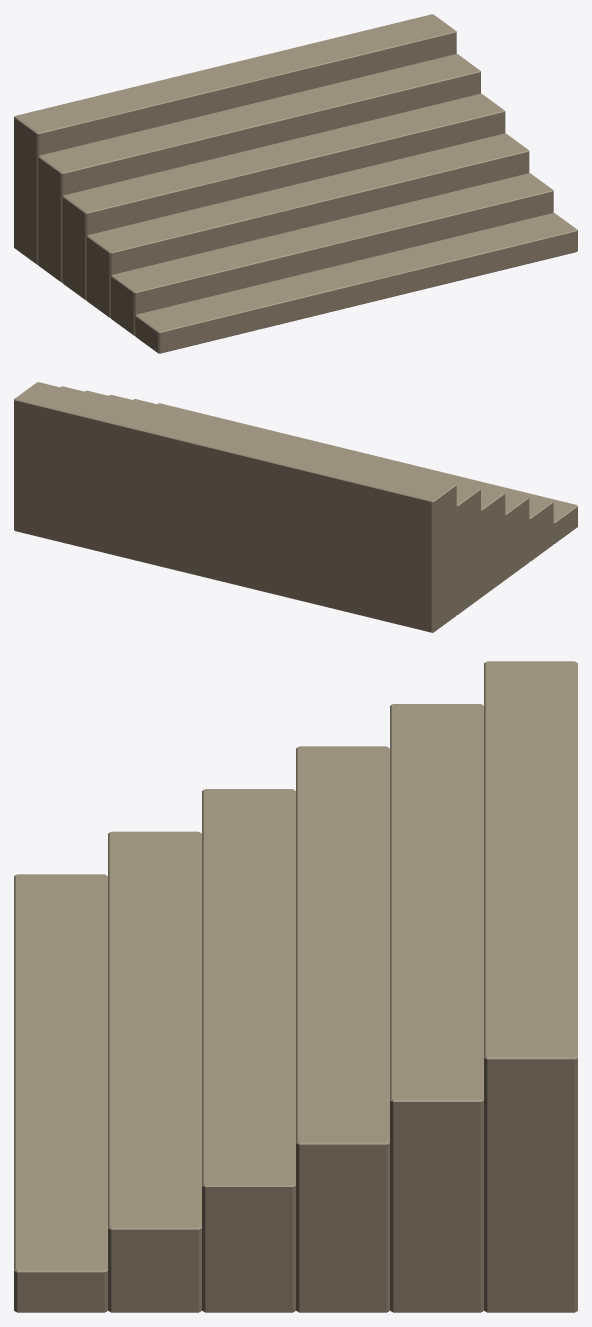
The model's file is stair-wide.glb.
The picture shows the model from 3 angles, top to bottom: view 1: azimuth 30°, elevation 25°; view 2: azimuth 150°, elevation 25°; view 3: azimuth 270°, elevation 25°; orthographic projection. The views are drawn at different scales.
Visible parts, largest first — view 1: stair-wide__body; view 2: stair-wide__body; view 3: stair-wide__body.
Boxes of the visible parts, x1,y1,x2,y2 form: stair-wide__body: [14, 14, 577, 353]; stair-wide__body: [14, 382, 577, 632]; stair-wide__body: [14, 661, 577, 1312].
Bounding box in the file's own units: 4 × 1.2 × 2.4.
